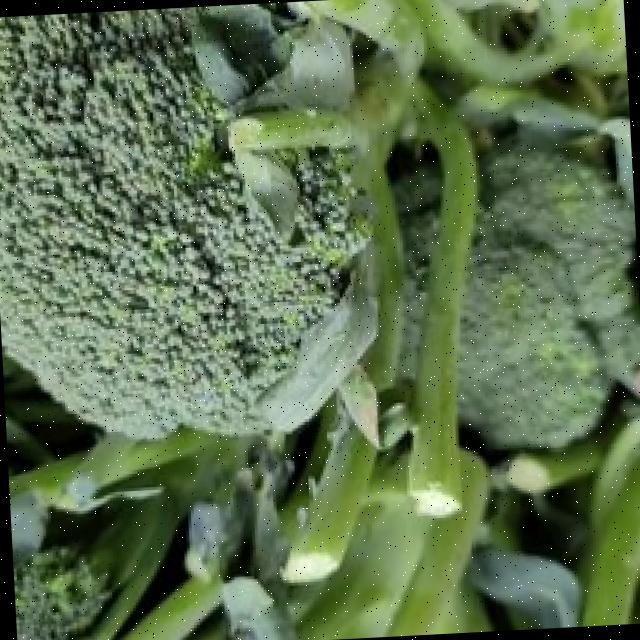Broccoli: (0, 7, 364, 437), (0, 6, 354, 436), (460, 129, 640, 447), (459, 132, 640, 448), (459, 137, 636, 448), (389, 145, 440, 377), (394, 153, 438, 340)
